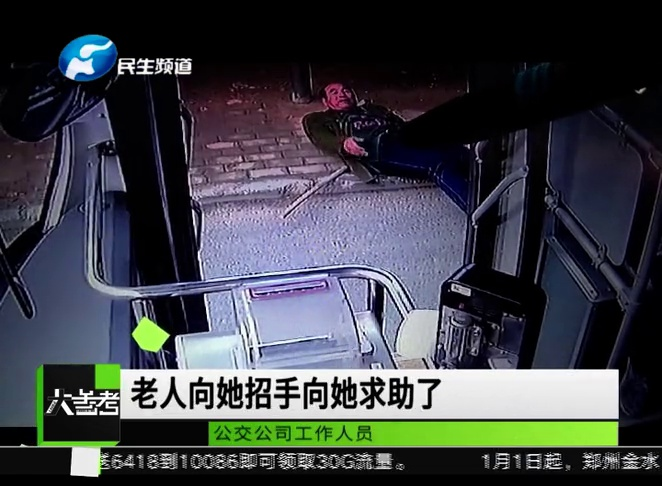fall: (294, 79, 492, 217)
